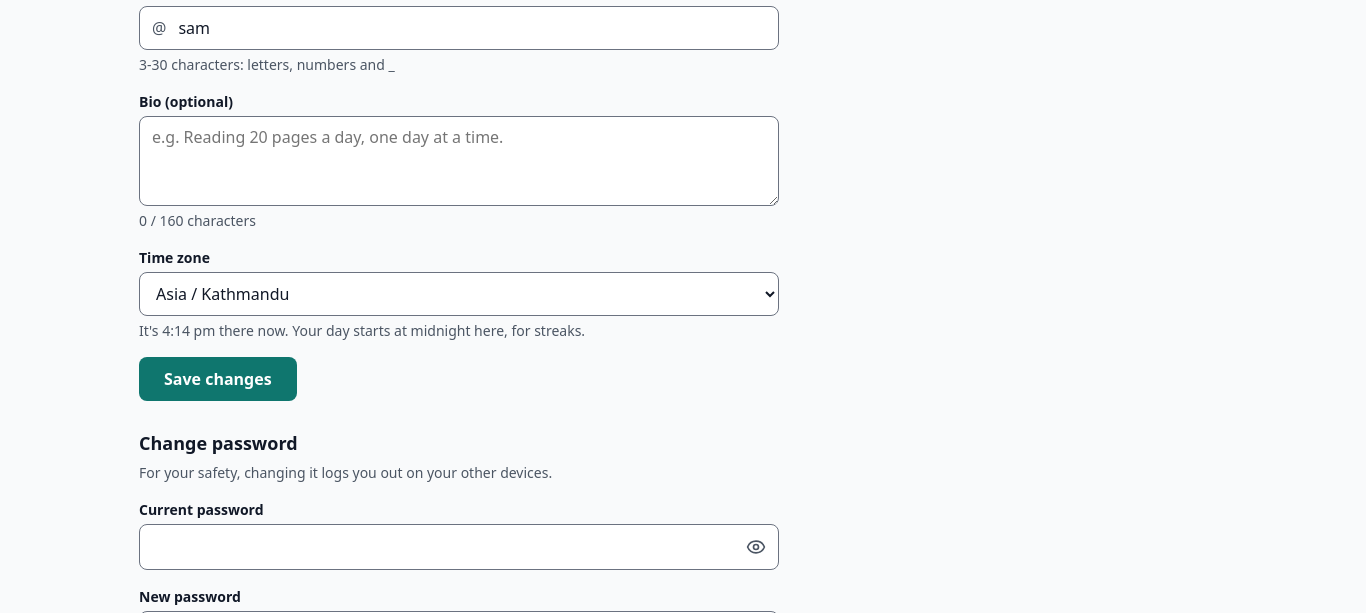
ProfilePage › shows an alert when the server is down
(page scrolled)
Click the button "Save changes". click: click(218, 379)
box: [139, 357, 297, 401]
(page scrolled)
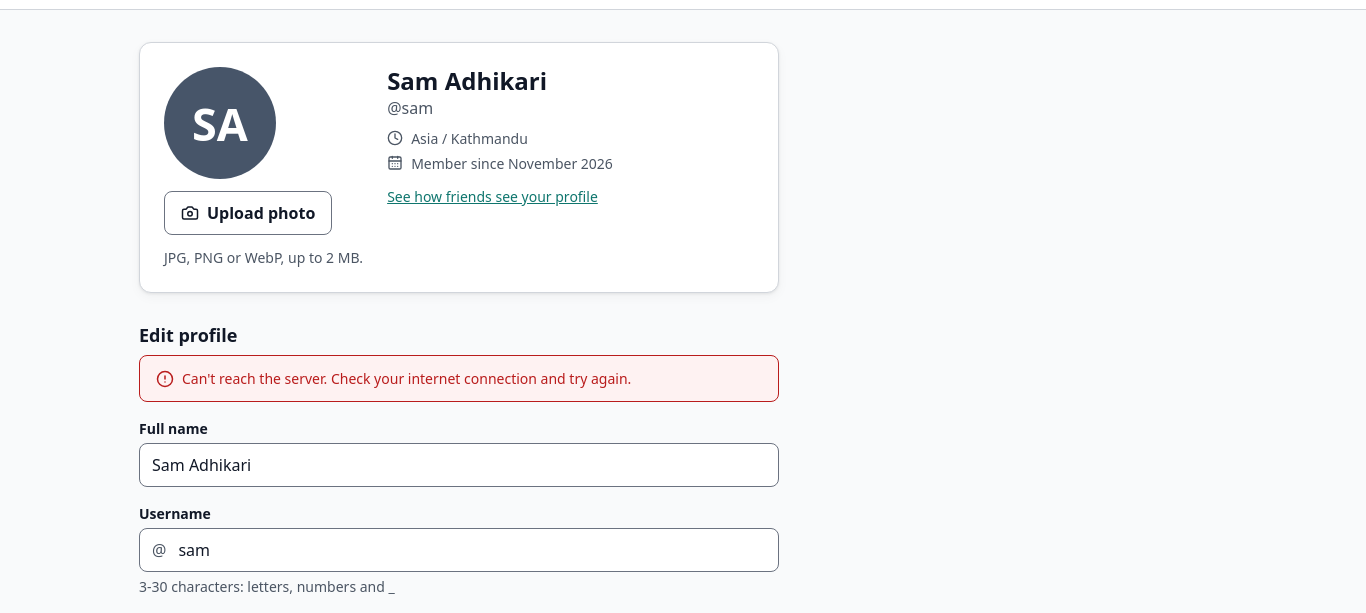
Now the message reads "Can't reach the server. Check your internet connection and try again.", box [182, 369, 631, 388]
